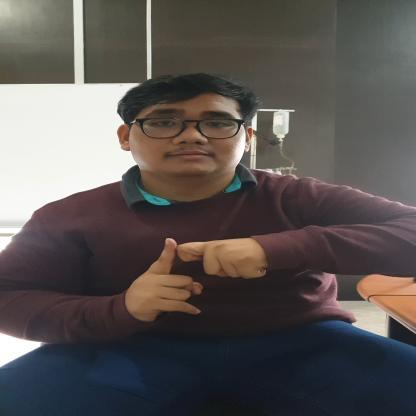K: (120, 235, 277, 324)
